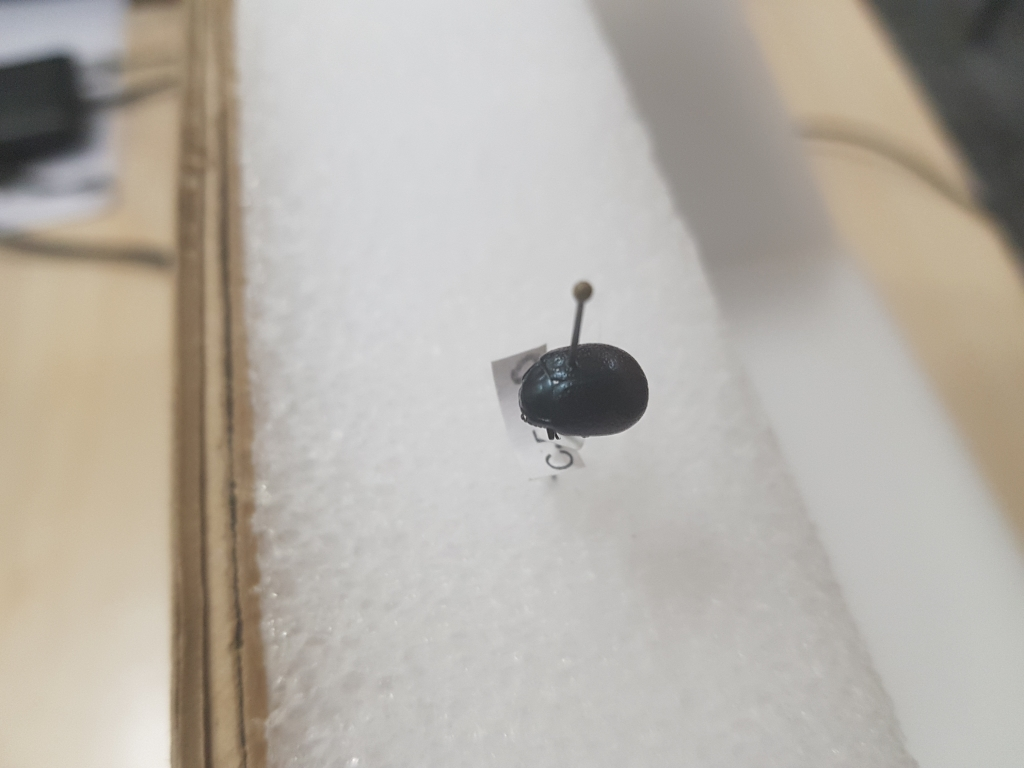Chrysolina_oricalcia: (520, 339, 651, 439)
